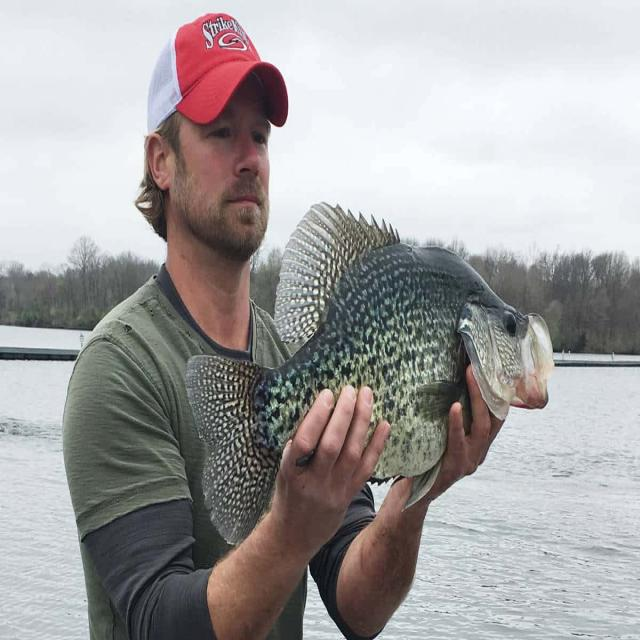Crappie - Black: (186, 202, 554, 544)
